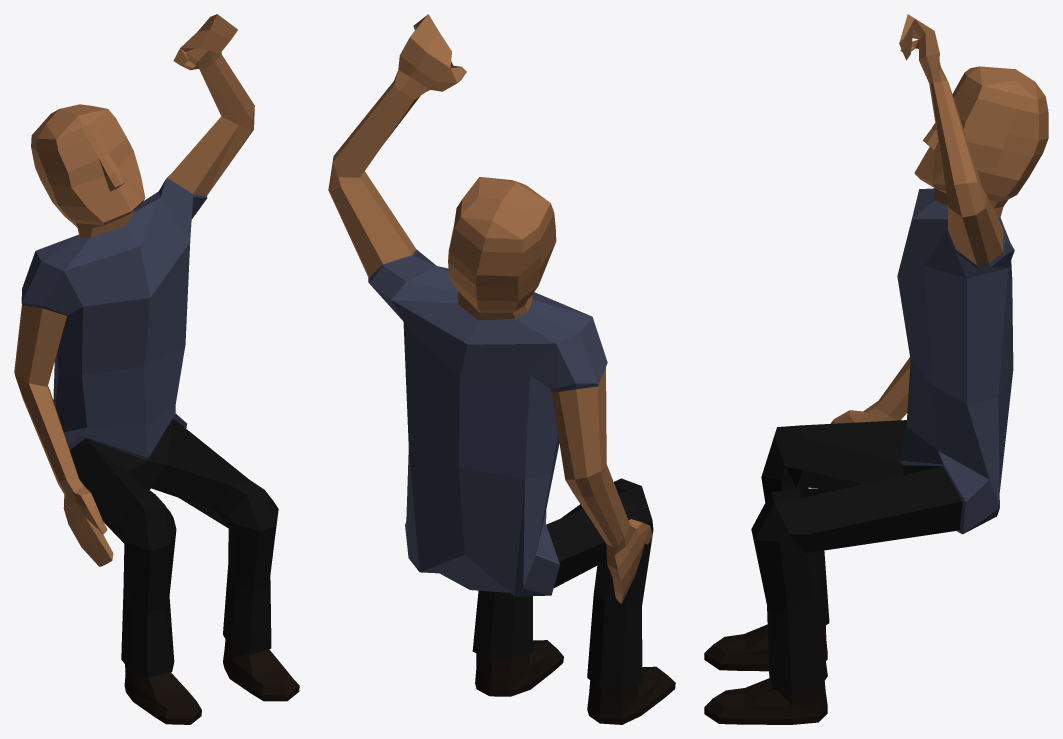
Rendered from Male_Sitting_Cheering.obj.
The picture shows the model from 3 angles, left to right: view 1: azimuth 30°, elevation 25°; view 2: azimuth 150°, elevation 25°; view 3: azimuth 270°, elevation 25°; orthographic projection. The views are drawn at different scales.
Parts seen in each view (by area): view 1: Male_Sitting_Cheering_Human_CylinderMesh.005; view 2: Male_Sitting_Cheering_Human_CylinderMesh.005; view 3: Male_Sitting_Cheering_Human_CylinderMesh.005.
Boxes of the visible parts, x1,y1,x2,y2 form: Male_Sitting_Cheering_Human_CylinderMesh.005: (14, 14, 299, 724); Male_Sitting_Cheering_Human_CylinderMesh.005: (328, 14, 675, 724); Male_Sitting_Cheering_Human_CylinderMesh.005: (704, 14, 1048, 724).
Size of the model in its own units: 1.45 by 3.61 by 1.59.
